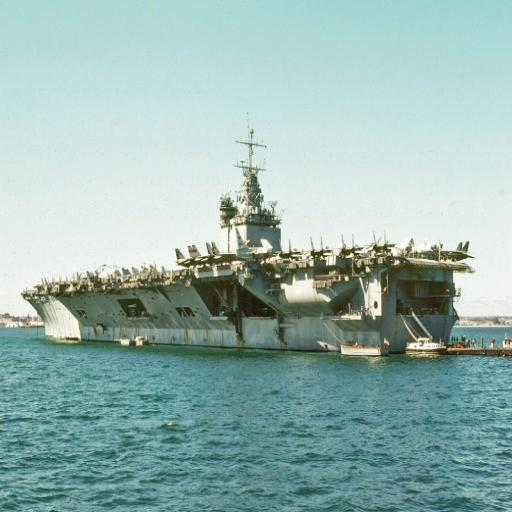Portanaves: (17, 106, 466, 358)
